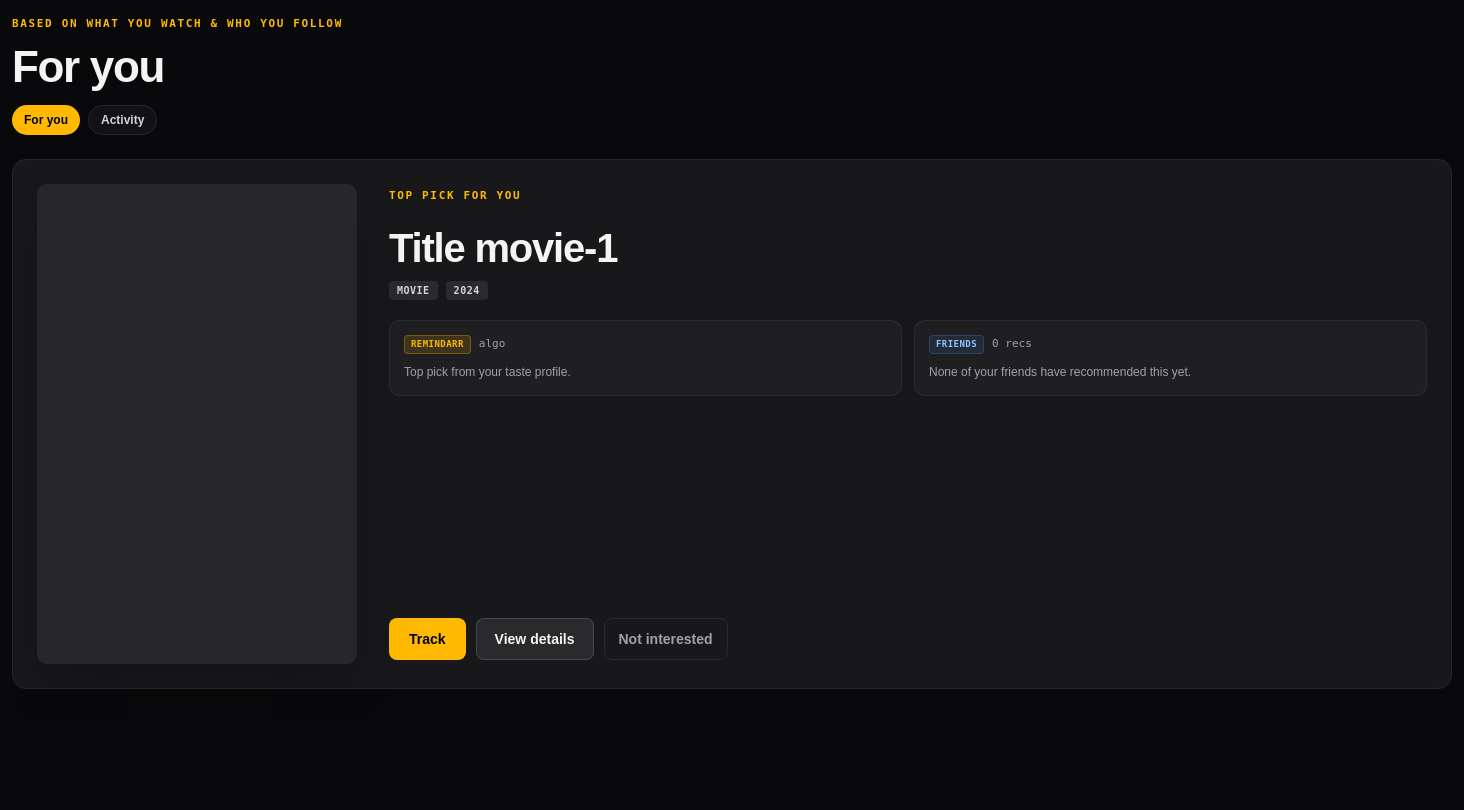
it: For you tab — suggestions › session counter reflects tracked and dismissed counts after actions
The image size is (1464, 810).
Expected: the text "Top pick for you" is shown, [389,188,521,204]
# Track the hero — counter should appear
Click the button "Track". click: (427, 638)
box: [389,618,466,660]
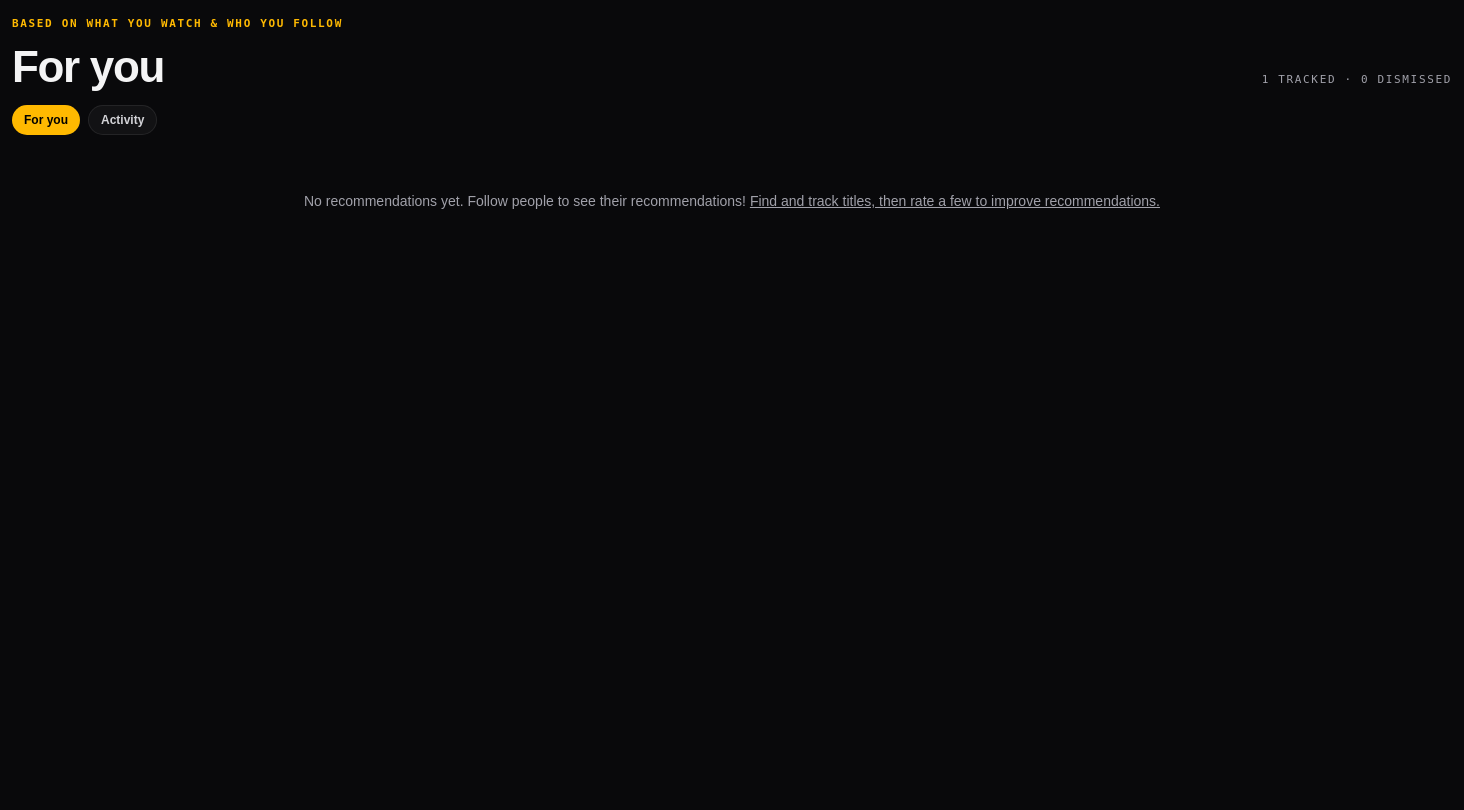
Expected: the text "1 tracked · 0 dismissed" is shown, [1262,72,1452,88]
